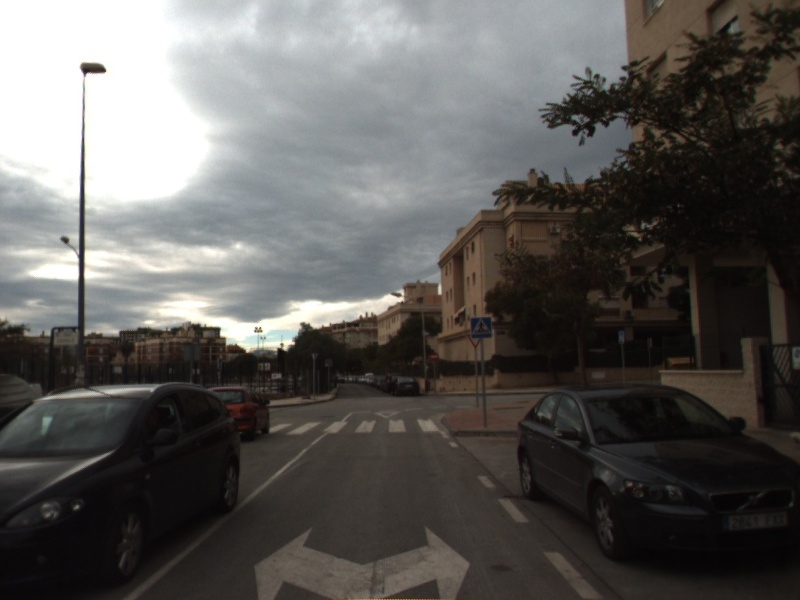LEFT_RIGHT: (251, 521, 474, 600)
